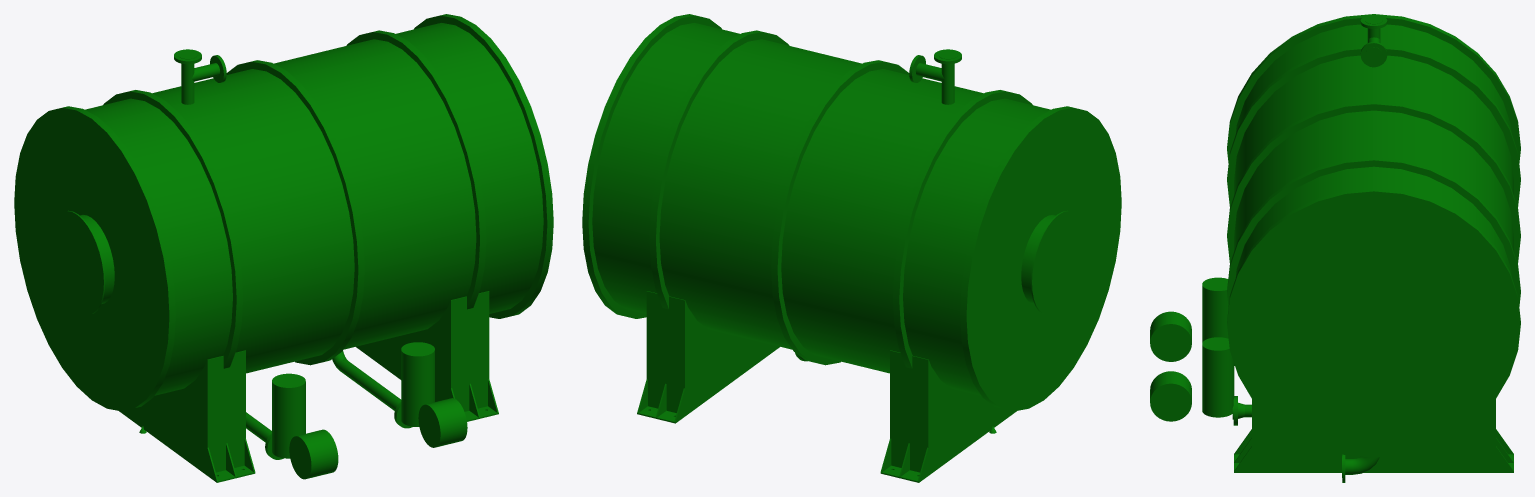
The model's file is Image-1711348112496-2280649960368_27-TA51.fbx.
3 renders of one model, left to right at view 1: azimuth 30°, elevation 25°; view 2: azimuth 150°, elevation 25°; view 3: azimuth 270°, elevation 25°, orthographic. The views are drawn at different scales.
Visible parts, largest first — view 1: CYLINDER 10 of SUBEQUIPMENT /27-TA51/TANK, CYLINDER 13 of SUBEQUIPMENT /27-TA51/TANK, BOX 2 of SUBEQUIPMENT /27-TA51/FOUND-1, BOX 2 of SUBEQUIPMENT /27-TA51/FOUND-2, CYLINDER 17 of SUBEQUIPMENT /27-TA51/TANK, CYLINDER 19 of SUBEQUIPMENT /27-TA51/TANK, CYLINDER 18 of SUBEQUIPMENT /27-TA51/TANK, CYLINDER 20 of SUBEQUIPMENT /27-TA51/TANK, CYLINDER 15 of SUBEQUIPMENT /27-TA51/TANK, CYLINDER 2 of SUBEQUIPMENT /27-TA51/TANK, CYLINDER 4 of SUBEQUIPMENT /27-TA51/TANK, CYLINDER 5 of SUBEQUIPMENT /27-TA51/TANK (+7 smaller); view 2: CYLINDER 10 of SUBEQUIPMENT /27-TA51/TANK, CYLINDER 13 of SUBEQUIPMENT /27-TA51/TANK, BOX 2 of SUBEQUIPMENT /27-TA51/FOUND-2, BOX 2 of SUBEQUIPMENT /27-TA51/FOUND-1, CYLINDER 17 of SUBEQUIPMENT /27-TA51/TANK, CYLINDER 19 of SUBEQUIPMENT /27-TA51/TANK, CYLINDER 18 of SUBEQUIPMENT /27-TA51/TANK, CYLINDER 20 of SUBEQUIPMENT /27-TA51/TANK, CYLINDER 15 of SUBEQUIPMENT /27-TA51/TANK, CYLINDER 12 of SUBEQUIPMENT /27-TA51/TANK, /27-TA51/N1155, CYLINDER 16 of SUBEQUIPMENT /27-TA51/TANK (+2 smaller); view 3: CYLINDER 12 of SUBEQUIPMENT /27-TA51/TANK, CYLINDER 10 of SUBEQUIPMENT /27-TA51/TANK, BOX 2 of SUBEQUIPMENT /27-TA51/FOUND-2, CYLINDER 19 of SUBEQUIPMENT /27-TA51/TANK, CYLINDER 18 of SUBEQUIPMENT /27-TA51/TANK, CYLINDER 20 of SUBEQUIPMENT /27-TA51/TANK, CYLINDER 14 of SUBEQUIPMENT /27-TA51/TANK, CYLINDER 2 of SUBEQUIPMENT /27-TA51/TANK, CYLINDER 3 of SUBEQUIPMENT /27-TA51/TANK, CYLINDER 5 of SUBEQUIPMENT /27-TA51/TANK, CYLINDER 4 of SUBEQUIPMENT /27-TA51/TANK, CYLINDER 13 of SUBEQUIPMENT /27-TA51/TANK (+4 smaller).
Part boxes in pixels (x1,y1,x2,y2): CYLINDER 10 of SUBEQUIPMENT /27-TA51/TANK: [85, 23, 543, 395]; CYLINDER 13 of SUBEQUIPMENT /27-TA51/TANK: [14, 106, 173, 411]; BOX 2 of SUBEQUIPMENT /27-TA51/FOUND-1: [121, 350, 245, 474]; BOX 2 of SUBEQUIPMENT /27-TA51/FOUND-2: [357, 291, 489, 411]; CYLINDER 17 of SUBEQUIPMENT /27-TA51/TANK: [50, 210, 105, 314]; CYLINDER 19 of SUBEQUIPMENT /27-TA51/TANK: [226, 60, 364, 365]; CYLINDER 18 of SUBEQUIPMENT /27-TA51/TANK: [103, 90, 242, 368]; CYLINDER 20 of SUBEQUIPMENT /27-TA51/TANK: [346, 30, 486, 309]; CYLINDER 15 of SUBEQUIPMENT /27-TA51/TANK: [414, 15, 549, 318]; CYLINDER 2 of SUBEQUIPMENT /27-TA51/TANK: [401, 342, 434, 426]; CYLINDER 4 of SUBEQUIPMENT /27-TA51/TANK: [272, 373, 305, 458]; CYLINDER 5 of SUBEQUIPMENT /27-TA51/TANK: [289, 429, 338, 479]; CYLINDER 10 of SUBEQUIPMENT /27-TA51/TANK: [592, 23, 1050, 395]; CYLINDER 13 of SUBEQUIPMENT /27-TA51/TANK: [962, 106, 1121, 411]; BOX 2 of SUBEQUIPMENT /27-TA51/FOUND-2: [646, 291, 778, 414]; BOX 2 of SUBEQUIPMENT /27-TA51/FOUND-1: [890, 350, 1014, 474]; CYLINDER 17 of SUBEQUIPMENT /27-TA51/TANK: [1030, 210, 1085, 314]; CYLINDER 19 of SUBEQUIPMENT /27-TA51/TANK: [771, 60, 909, 365]; CYLINDER 18 of SUBEQUIPMENT /27-TA51/TANK: [893, 90, 1032, 368]; CYLINDER 20 of SUBEQUIPMENT /27-TA51/TANK: [649, 30, 789, 309]; CYLINDER 15 of SUBEQUIPMENT /27-TA51/TANK: [586, 15, 721, 318]; CYLINDER 12 of SUBEQUIPMENT /27-TA51/TANK: [582, 14, 692, 315]; /27-TA51/N1155: [934, 49, 961, 104]; CYLINDER 16 of SUBEQUIPMENT /27-TA51/TANK: [1021, 215, 1055, 303]; CYLINDER 12 of SUBEQUIPMENT /27-TA51/TANK: [1227, 189, 1520, 457]; CYLINDER 10 of SUBEQUIPMENT /27-TA51/TANK: [1234, 24, 1513, 277]; BOX 2 of SUBEQUIPMENT /27-TA51/FOUND-2: [1252, 399, 1495, 471]; CYLINDER 19 of SUBEQUIPMENT /27-TA51/TANK: [1227, 101, 1520, 263]; CYLINDER 18 of SUBEQUIPMENT /27-TA51/TANK: [1227, 46, 1520, 207]; CYLINDER 20 of SUBEQUIPMENT /27-TA51/TANK: [1227, 157, 1520, 306]; CYLINDER 14 of SUBEQUIPMENT /27-TA51/TANK: [1227, 17, 1520, 162]; CYLINDER 2 of SUBEQUIPMENT /27-TA51/TANK: [1202, 337, 1234, 417]; CYLINDER 3 of SUBEQUIPMENT /27-TA51/TANK: [1150, 371, 1191, 421]; CYLINDER 5 of SUBEQUIPMENT /27-TA51/TANK: [1150, 311, 1191, 361]; CYLINDER 4 of SUBEQUIPMENT /27-TA51/TANK: [1202, 277, 1228, 342]; CYLINDER 13 of SUBEQUIPMENT /27-TA51/TANK: [1227, 14, 1520, 147].
Bounding box in the file's own units: 3.11 × 2.65 × 2.73.
